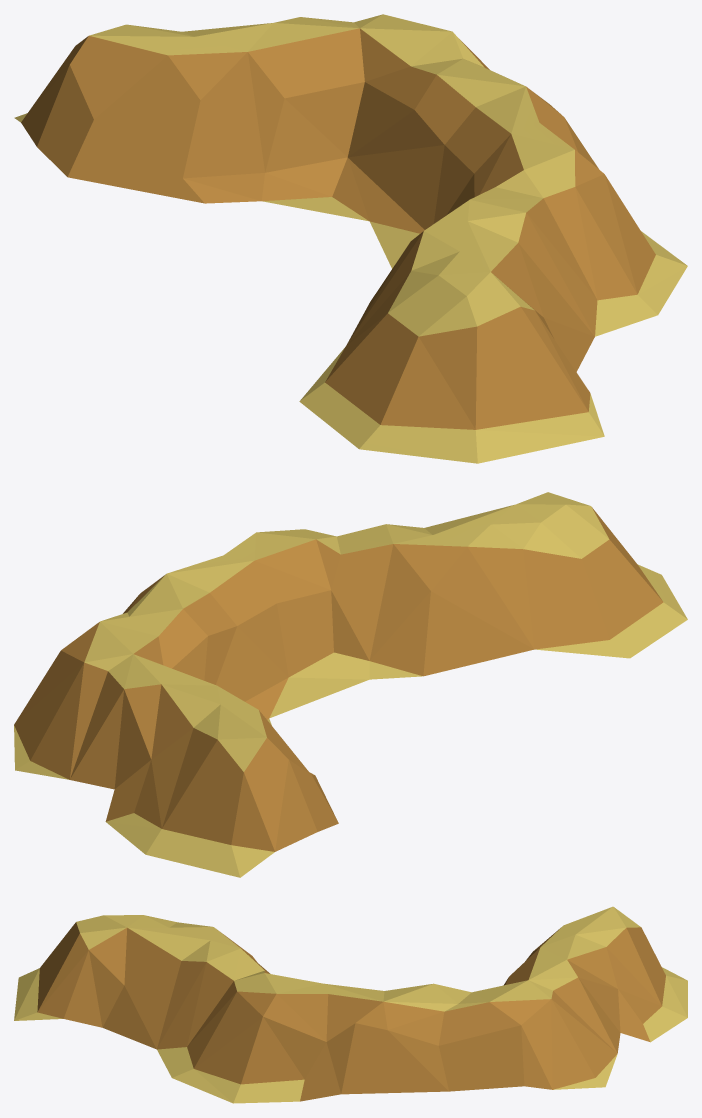
File: TerrainArch.fbx
3 renders of one model, top to bottom at view 1: azimuth 30°, elevation 25°; view 2: azimuth 150°, elevation 25°; view 3: azimuth 270°, elevation 25°, orthographic. The views are drawn at different scales.
Visible parts, largest first — view 1: Terrain_1; view 2: Terrain_1; view 3: Terrain_1.
Boxes of the visible parts, x1,y1,x2,y2 form: Terrain_1: [14, 14, 687, 463]; Terrain_1: [14, 492, 687, 877]; Terrain_1: [14, 906, 687, 1103].
Bounding box in the file's own units: 1002 × 254 × 1874.
